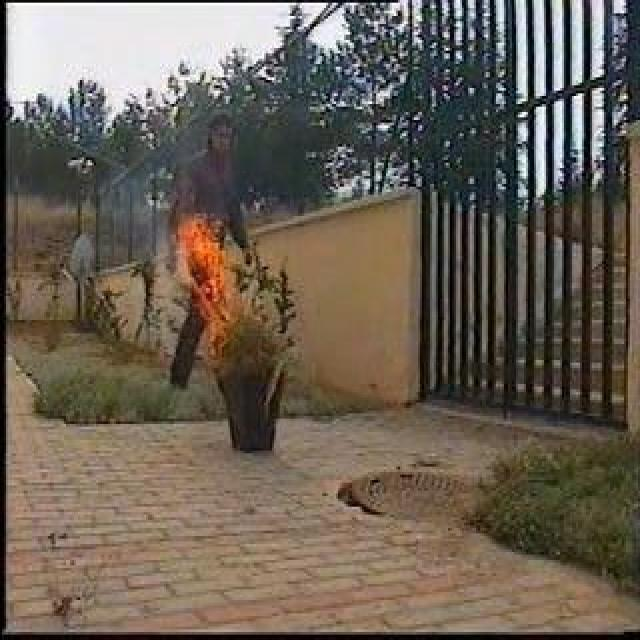fire: (177, 218, 243, 346)
